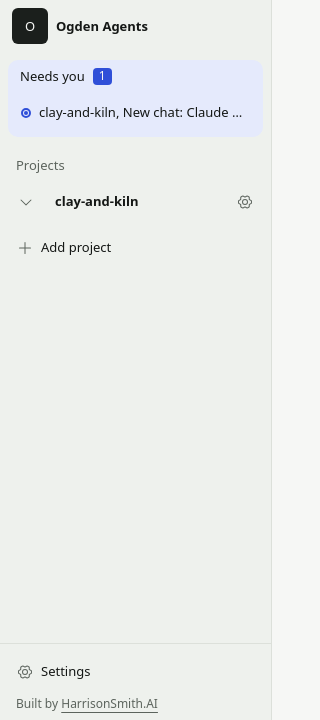
Test: the sidebar is the one place for projects (backlog story 13) › the chevron collapses the group without opening it, and says so
Click the button named "Chats in clay-and-kiln": (26, 202) [8,182,44,222]
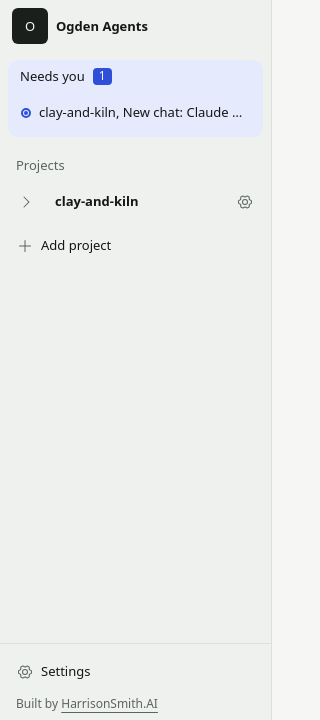
Check: the button named "Chats in clay-and-kiln" is collapsed, box [8,182,44,222]
